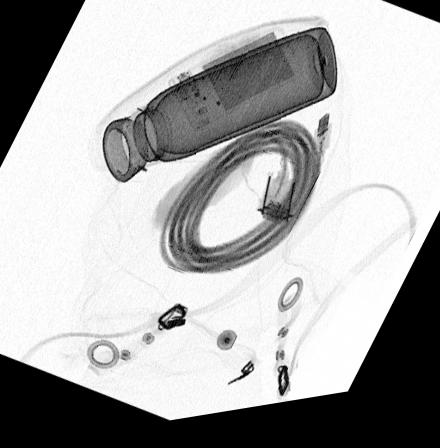Powerbank: (165, 34, 303, 136)
